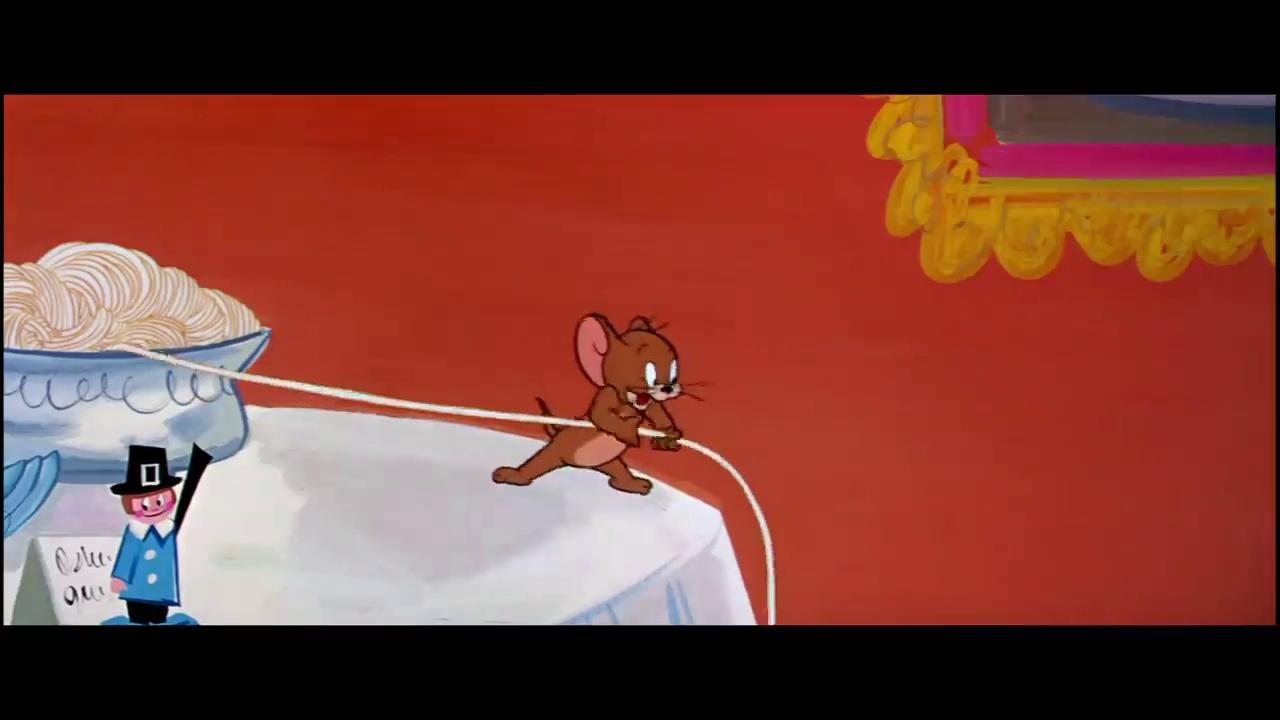Jerry: (490, 309, 691, 500)
